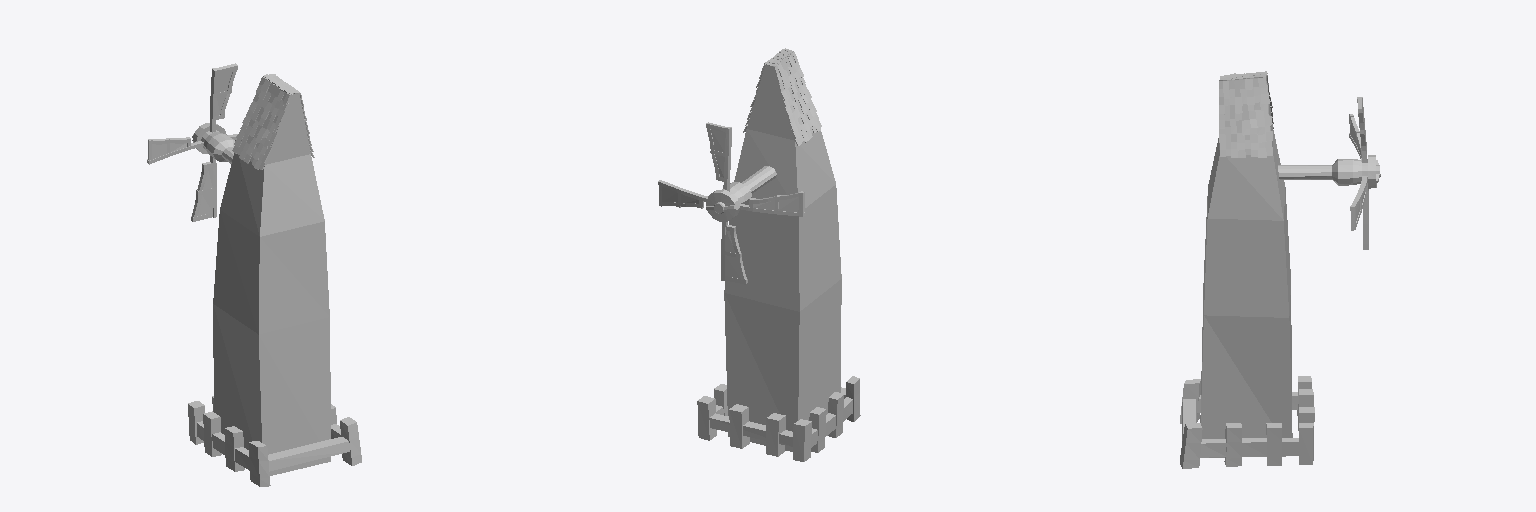
Rendered from FantasyMills.obj.
3 renders of one model, left to right at view 1: azimuth 30°, elevation 25°; view 2: azimuth 150°, elevation 25°; view 3: azimuth 270°, elevation 25°, orthographic.
Visible parts, largest first — view 1: Cube.001_Cube.006, Cube_Cube.001, Cube.022_Cube.264, Cube.016_Cube.022, Cube.017_Cube.023, Cube.015_Cube.021; view 2: Cube.001_Cube.006, Cube_Cube.001, Cube.022_Cube.264, Cube.016_Cube.022, Cube.019_Cube.025, Cube.020_Cube.026, Cube.021_Cube.027, Cube.023_Cube.028, Cube.018_Cube.024; view 3: Cube.001_Cube.006, Cube.002_Cube.007, Cube_Cube.001, Cube.015_Cube.021, Cube.018_Cube.024, Cube.016_Cube.022.
Boxes of the visible parts, box(x1,y1,x2,y2) form: Cube.001_Cube.006: box(213, 77, 330, 475); Cube_Cube.001: box(147, 63, 237, 221); Cube.022_Cube.264: box(232, 77, 290, 169); Cube.016_Cube.022: box(197, 411, 270, 486); Cube.017_Cube.023: box(268, 437, 349, 471); Cube.015_Cube.021: box(331, 404, 361, 465); Cube.001_Cube.006: box(724, 51, 841, 451); Cube_Cube.001: box(658, 122, 805, 284); Cube.022_Cube.264: box(774, 51, 821, 145); Cube.016_Cube.022: box(809, 376, 860, 452); Cube.019_Cube.025: box(709, 413, 792, 446); Cube.020_Cube.026: box(793, 419, 811, 461); Cube.021_Cube.027: box(729, 404, 749, 448); Cube.023_Cube.028: box(766, 413, 785, 456); Cube.018_Cube.024: box(697, 396, 716, 440); Cube.001_Cube.006: box(1200, 76, 1292, 457); Cube.002_Cube.007: box(1219, 77, 1272, 157); Cube_Cube.001: box(1278, 97, 1380, 249); Cube.015_Cube.021: box(1180, 423, 1298, 468); Cube.018_Cube.024: box(1299, 423, 1313, 464); Cube.016_Cube.022: box(1180, 379, 1297, 423).
Size of the model in its own units: 4.4 by 10.7 by 5.27.